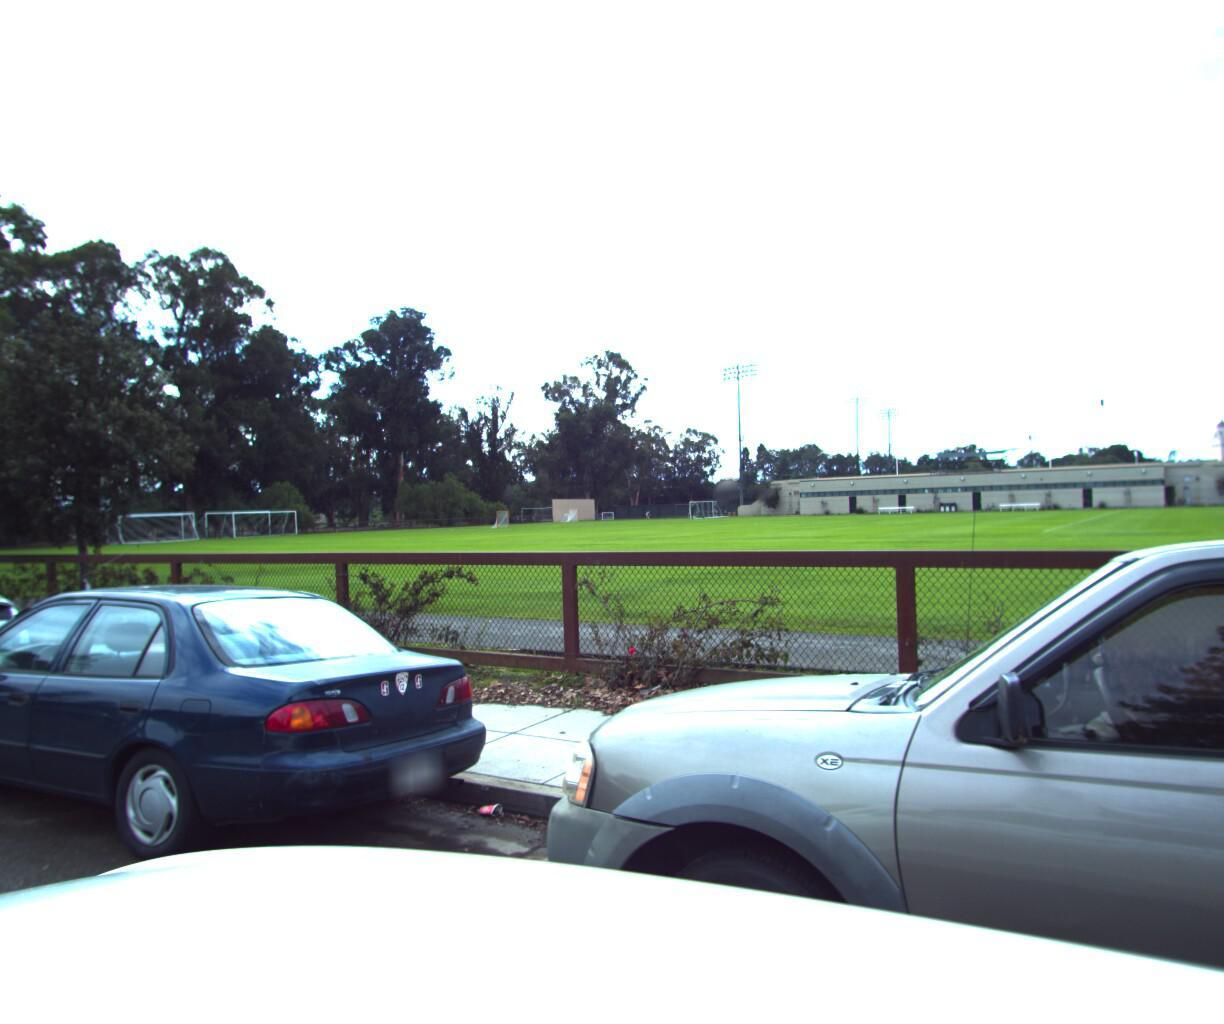car: (476, 166, 1224, 1024), (0, 568, 523, 917), (0, 552, 60, 774)
